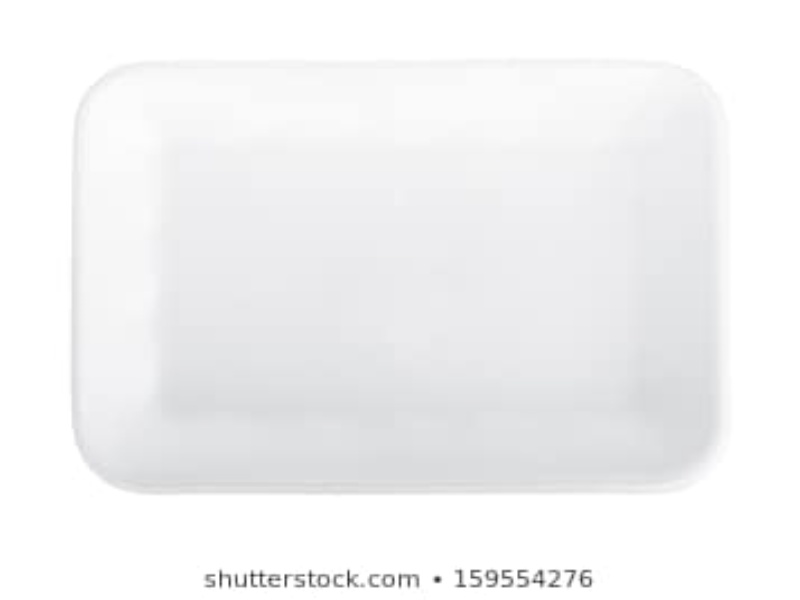plastic-tray: (64, 53, 734, 493)
